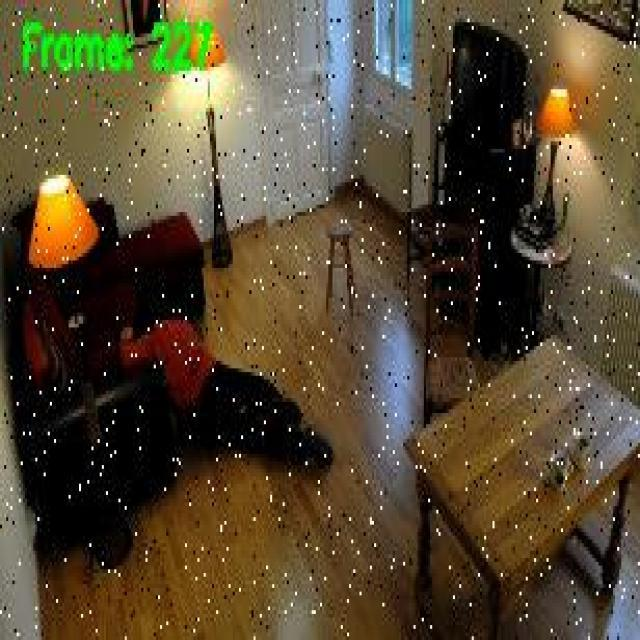fall: (120, 313, 340, 477)
